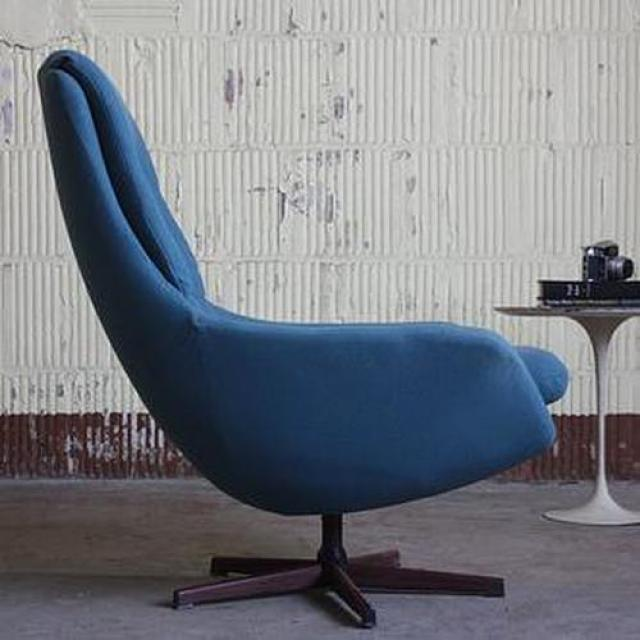swivelchair: (37, 50, 572, 631)
